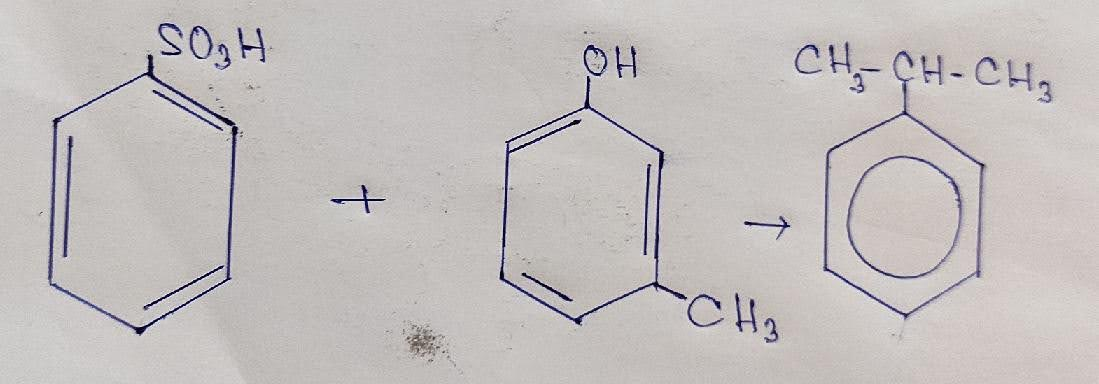Benzenesulfonic Acid(C6H6SO3): (44, 20, 268, 337)
Cumene(C9H12): (792, 40, 1054, 323)
m-cresol(C7H8O): (496, 38, 780, 347)
